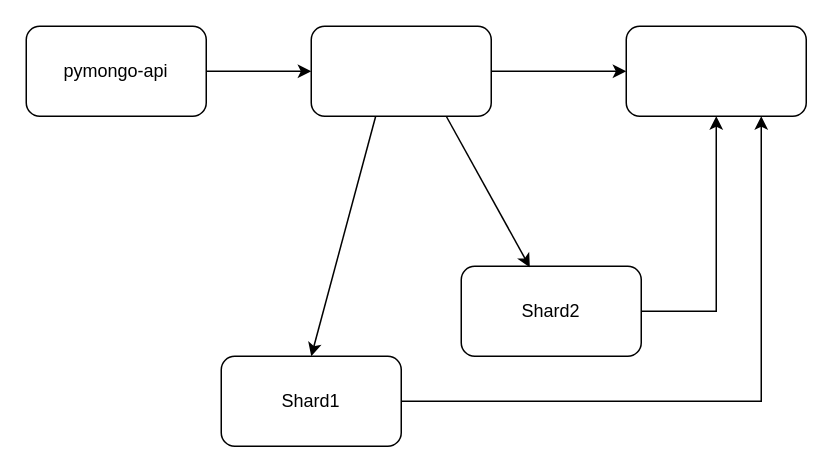
The diagram is 833 pixels wide and 473 high, and some of its shapes have lost their labels. Here are the shapes that lost their labels. From the top down, the centre of each, then its label:
At (400,70): "Router".
At (715,70): "Configutation Server".
